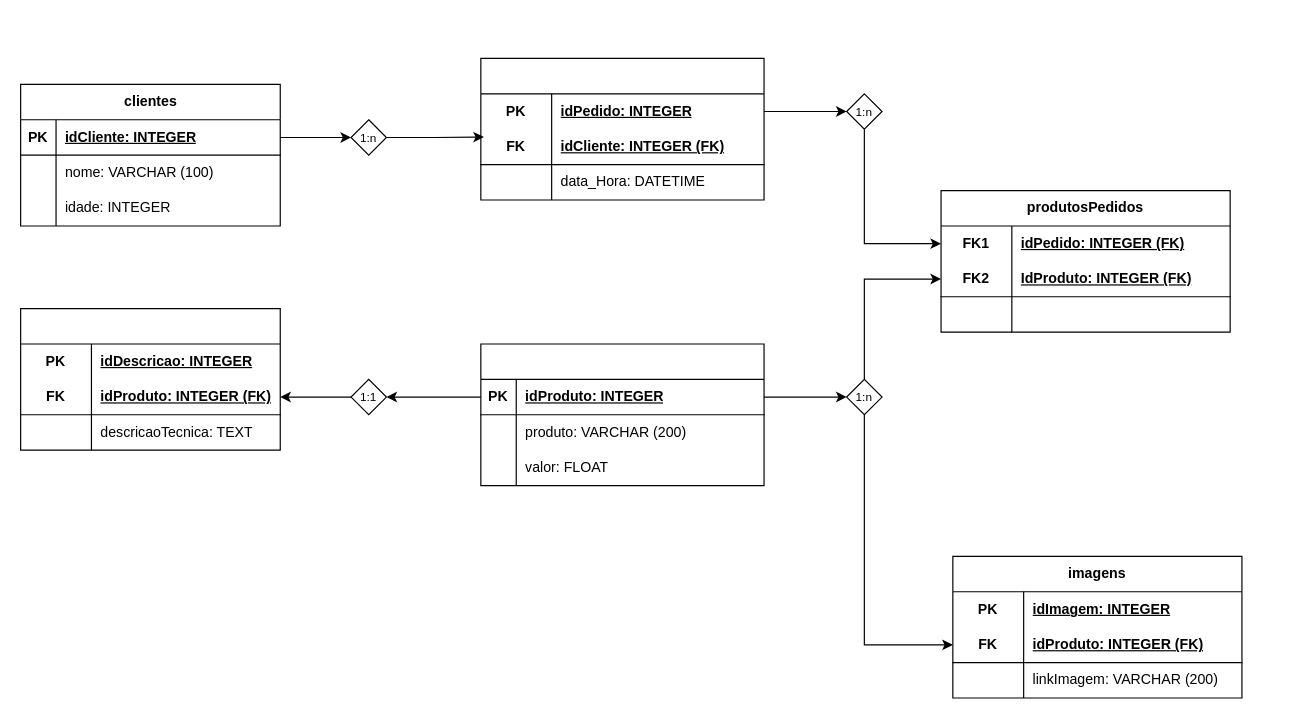
Some shapes in this 1292 by 719 pixel diagram are drawn without their labels. Each missing label, with the box of its shape:
descricoes: (19, 307, 280, 450)
pedidos: (480, 57, 764, 200)
produtos: (480, 343, 764, 486)
